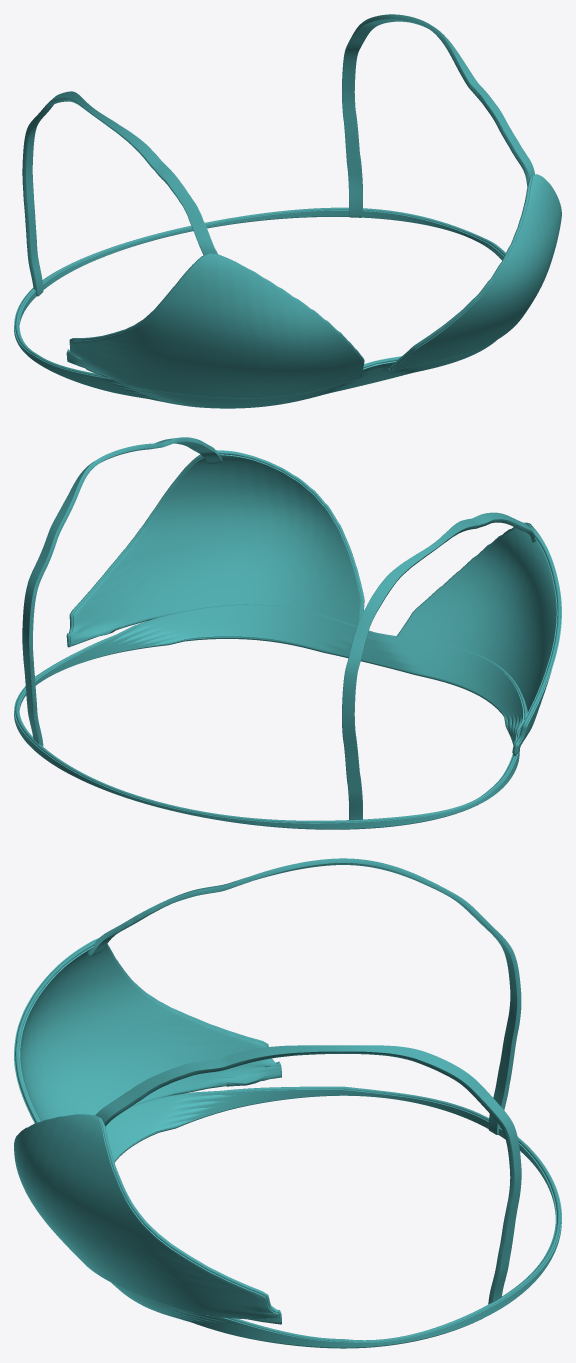
The model's file is Feminine-triangle-top.glb.
The picture shows the model from 3 angles, top to bottom: view 1: azimuth 30°, elevation 25°; view 2: azimuth 150°, elevation 25°; view 3: azimuth 270°, elevation 25°; orthographic projection. The views are drawn at different scales.
Parts seen in each view (by area): view 1: Clothing / triangle cup -1, Clothing / triangle cup 1, Clothing / Triangle underband, Clothing / Triangle strap 1, Clothing / Triangle strap -1, Triangle underband / bound edge.001 export, Triangle / cup edge -1 export, Triangle / cup edge 1 export; view 2: Clothing / triangle cup 1, Clothing / Triangle underband, Clothing / triangle cup -1, Clothing / Triangle strap -1, Clothing / Triangle strap 1, Triangle underband / bound edge.001 export, Triangle / cup edge 1 export, Triangle underband / bound edge export, Triangle / cup edge -1 export; view 3: Clothing / triangle cup -1, Clothing / triangle cup 1, Clothing / Triangle underband, Clothing / Triangle strap 1, Clothing / Triangle strap -1, Triangle underband / bound edge.001 export, Triangle / cup edge -1 export, Triangle / cup edge 1 export, Triangle underband / bound edge export.
Boxes of the visible parts, left/top/right/bottom form: Clothing / triangle cup -1: left=66, top=254, right=364, bottom=398; Clothing / triangle cup 1: left=392, top=174, right=561, bottom=370; Clothing / Triangle underband: left=14, top=210, right=505, bottom=408; Clothing / Triangle strap 1: left=342, top=14, right=534, bottom=217; Clothing / Triangle strap -1: left=22, top=91, right=217, bottom=296; Triangle underband / bound edge.001 export: left=15, top=207, right=505, bottom=377; Triangle / cup edge -1 export: left=67, top=253, right=364, bottom=378; Triangle / cup edge 1 export: left=388, top=174, right=538, bottom=370; Clothing / triangle cup 1: left=66, top=450, right=361, bottom=645; Clothing / Triangle underband: left=14, top=605, right=527, bottom=829; Clothing / triangle cup -1: left=398, top=522, right=561, bottom=753; Clothing / Triangle strap -1: left=342, top=512, right=536, bottom=820; Clothing / Triangle strap 1: left=22, top=437, right=222, bottom=746; Triangle underband / bound edge.001 export: left=15, top=604, right=527, bottom=822; Triangle / cup edge 1 export: left=67, top=450, right=364, bottom=647; Triangle underband / bound edge export: left=82, top=637, right=505, bottom=829; Triangle / cup edge -1 export: left=397, top=522, right=560, bottom=756; Clothing / triangle cup -1: left=14, top=938, right=280, bottom=1122; Clothing / triangle cup 1: left=14, top=1115, right=279, bottom=1323; Clothing / Triangle underband: left=105, top=1089, right=561, bottom=1347; Clothing / Triangle strap 1: left=95, top=1045, right=521, bottom=1304; Clothing / Triangle strap -1: left=87, top=858, right=521, bottom=1134; Triangle underband / bound edge.001 export: left=128, top=1086, right=560, bottom=1342; Triangle / cup edge -1 export: left=15, top=940, right=281, bottom=1122; Triangle / cup edge 1 export: left=25, top=1114, right=281, bottom=1324; Triangle underband / bound edge export: left=114, top=1095, right=481, bottom=1348.
Bounding box in the file's own units: 0.5845 × 0.289 × 0.5303.
